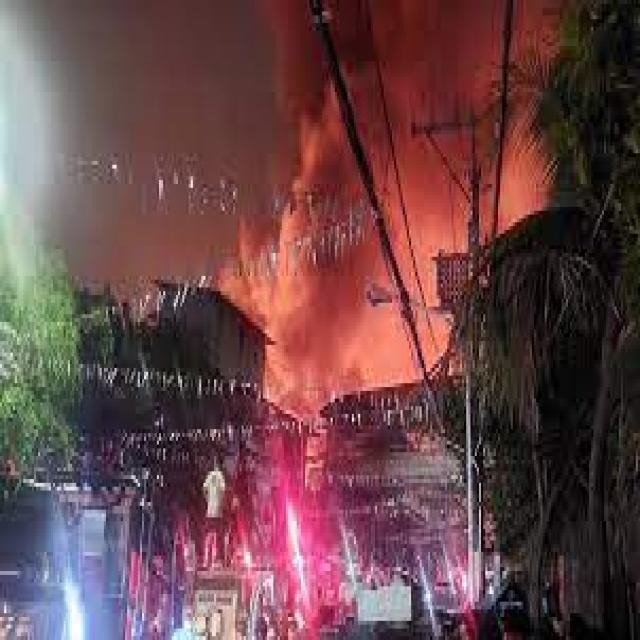Smoke: (244, 0, 536, 422)
